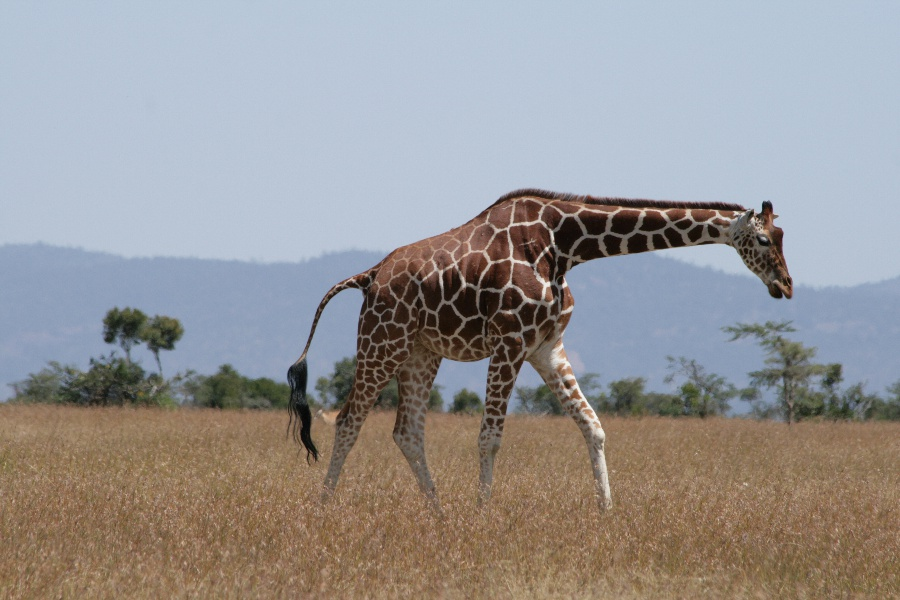giraffe: (304, 174, 801, 515)
